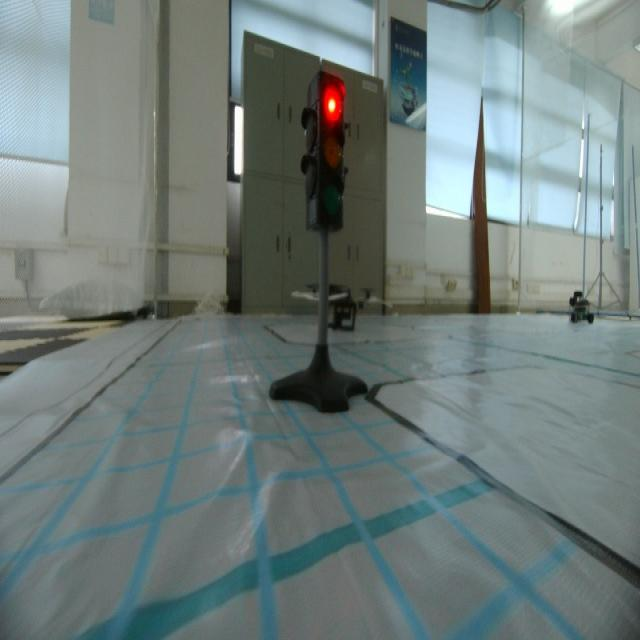red: (297, 65, 351, 242)
